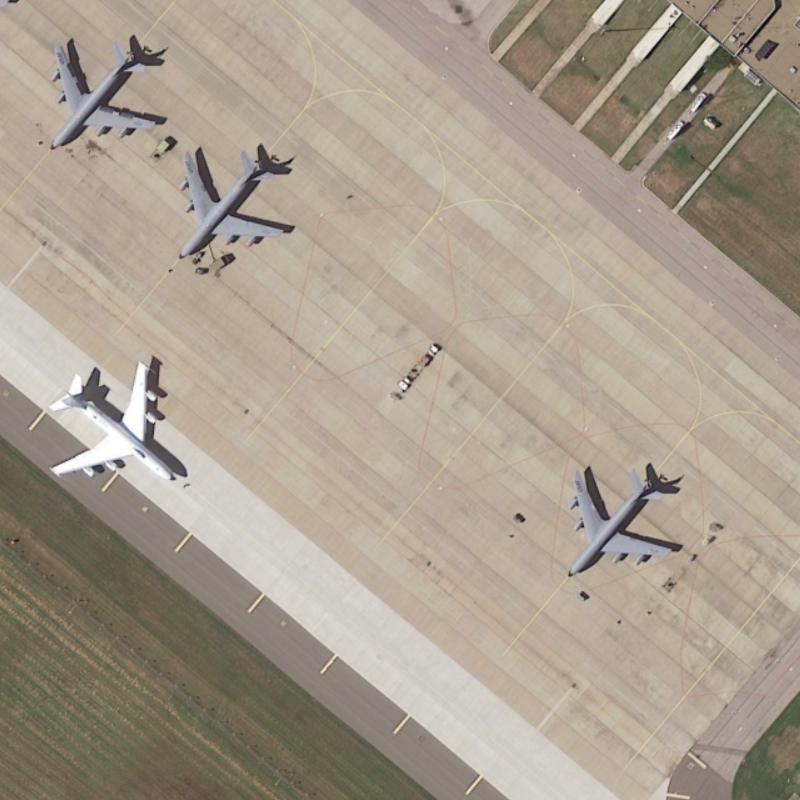A11: (37, 353, 193, 491)
A14: (558, 449, 689, 578), (37, 29, 171, 146), (180, 142, 297, 268)
